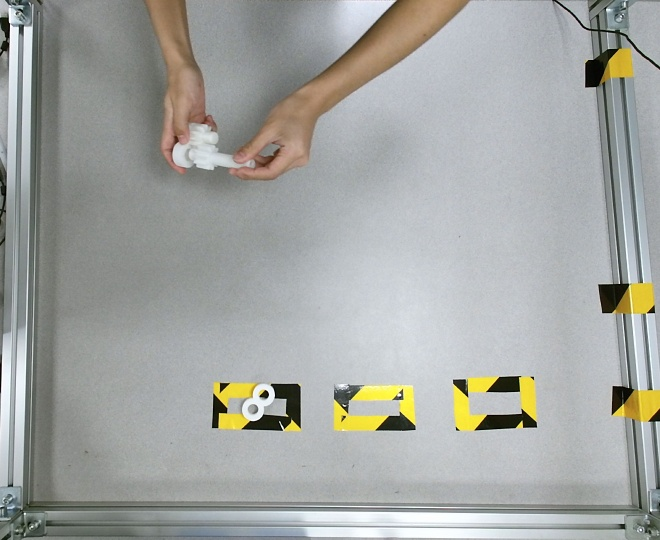stage_2: (172, 123, 219, 168)
